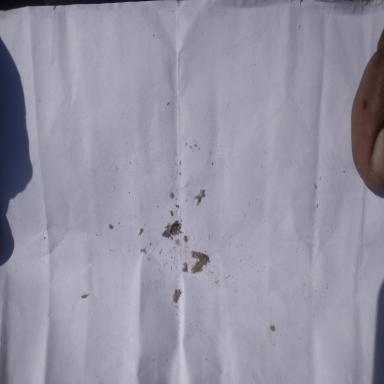pbw: (190, 248, 210, 274), (160, 220, 182, 238)
